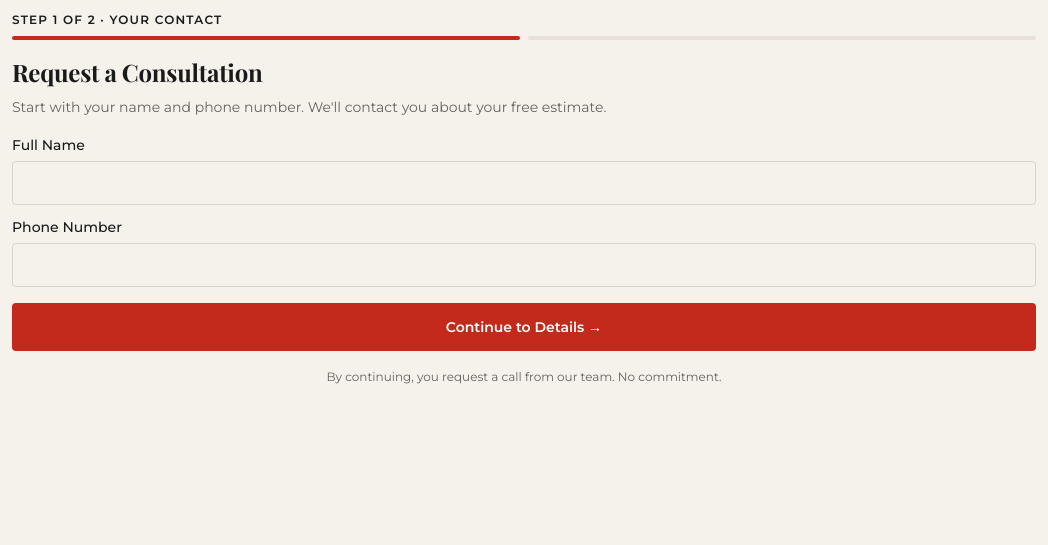
Scenario: waits for saving, retains step on failure, and retries completion using the same token
Later steps or results of the test are not shown.
In the field labelled "Full Name": {"x": 524, "y": 183} [12,161,1036,205], type "Jane"
In the field labelled "Phone Number": {"x": 524, "y": 265} [12,243,1036,287], type "5085550123"
Click the button "Continue to Details →": {"x": 524, "y": 327} [12,303,1036,351]
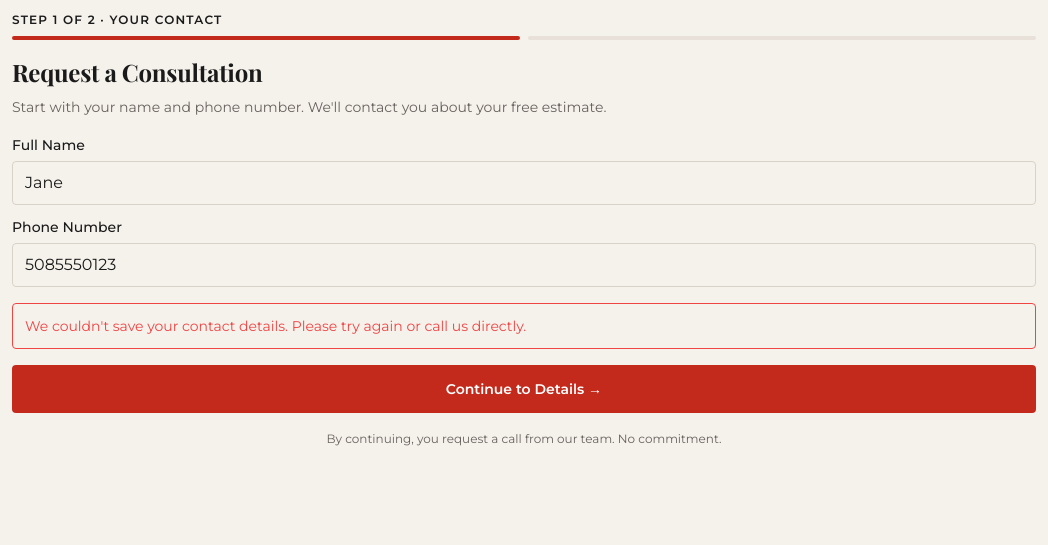
Expected: the field labelled "Email Address" is not shown
Expected: the message "We couldn't save your contact details. Please try again or call us directly." is shown, [12,303,1036,349]
Click the button "Continue to Details →": {"x": 524, "y": 389} [12,365,1036,413]
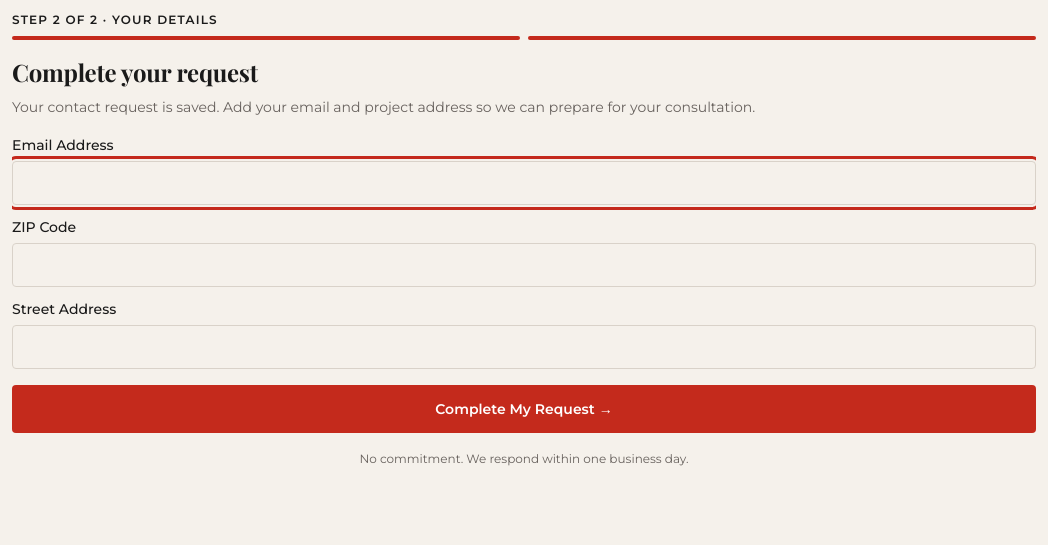
Expected: the field labelled "Email Address" is shown
In the field labelled "Email Address": {"x": 524, "y": 183} [12,161,1036,205], type "jane@example.com"
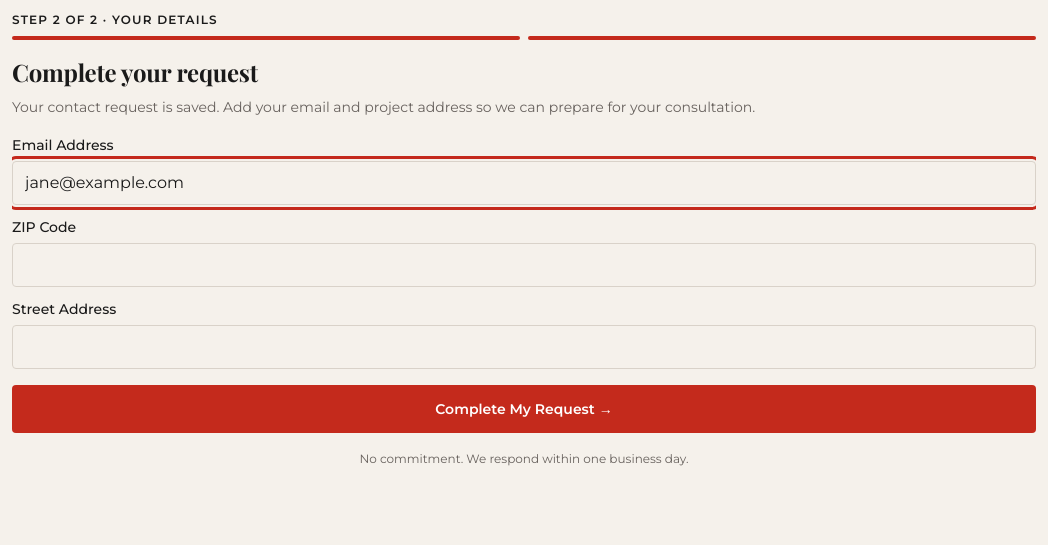
In the field labelled "ZIP Code": {"x": 524, "y": 265} [12,243,1036,287], type "02108"
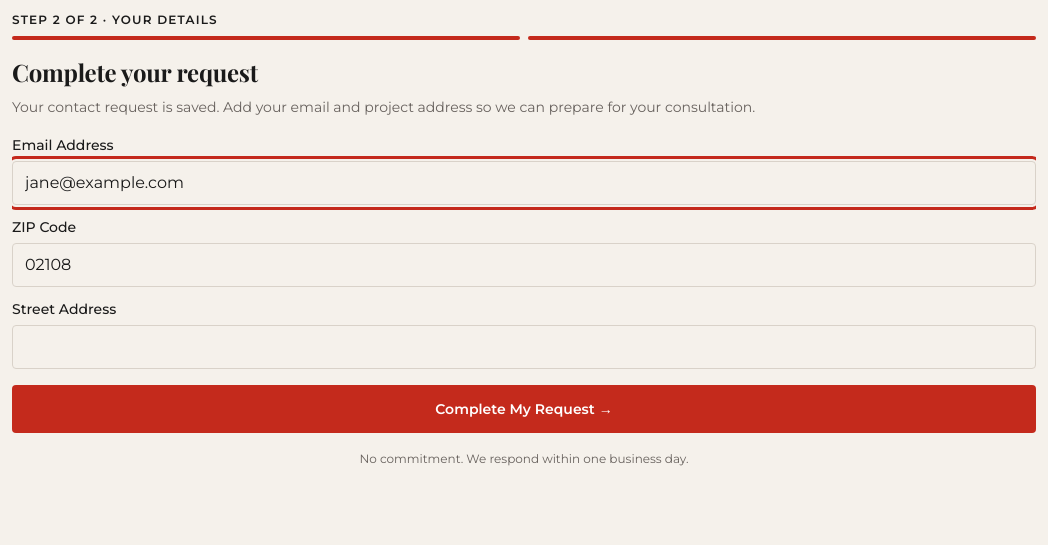
In the field labelled "Street Address": {"x": 524, "y": 347} [12,325,1036,369], type "123 Test Street"
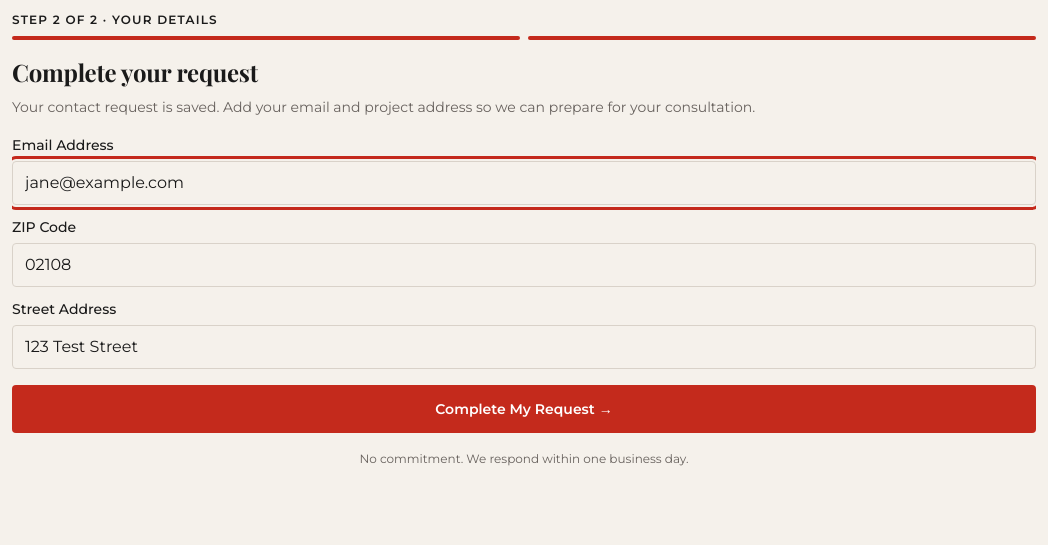
Click the button "Complete My Request →": {"x": 524, "y": 409} [12,385,1036,433]
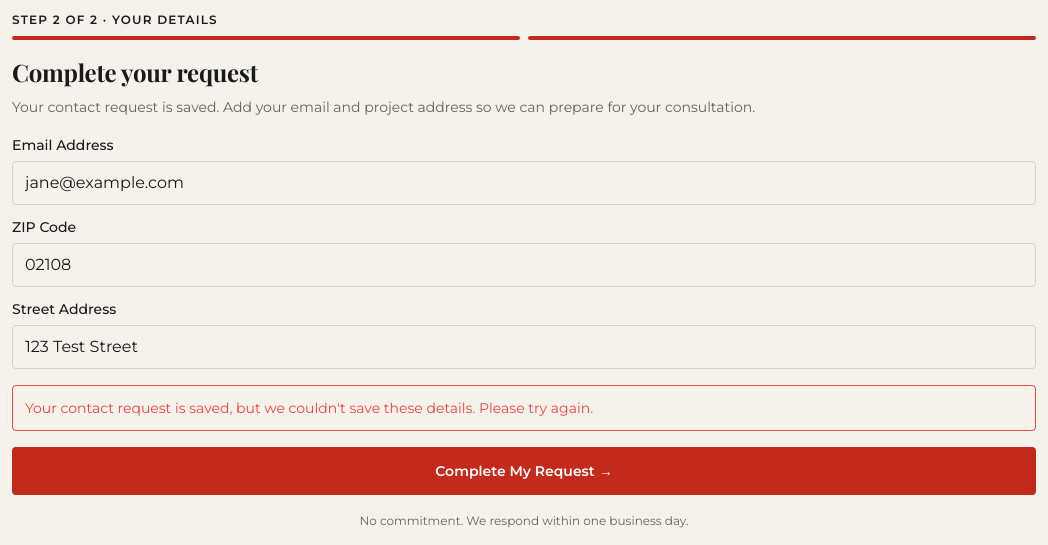
Expected: the message is shown, [12,385,1036,431]
